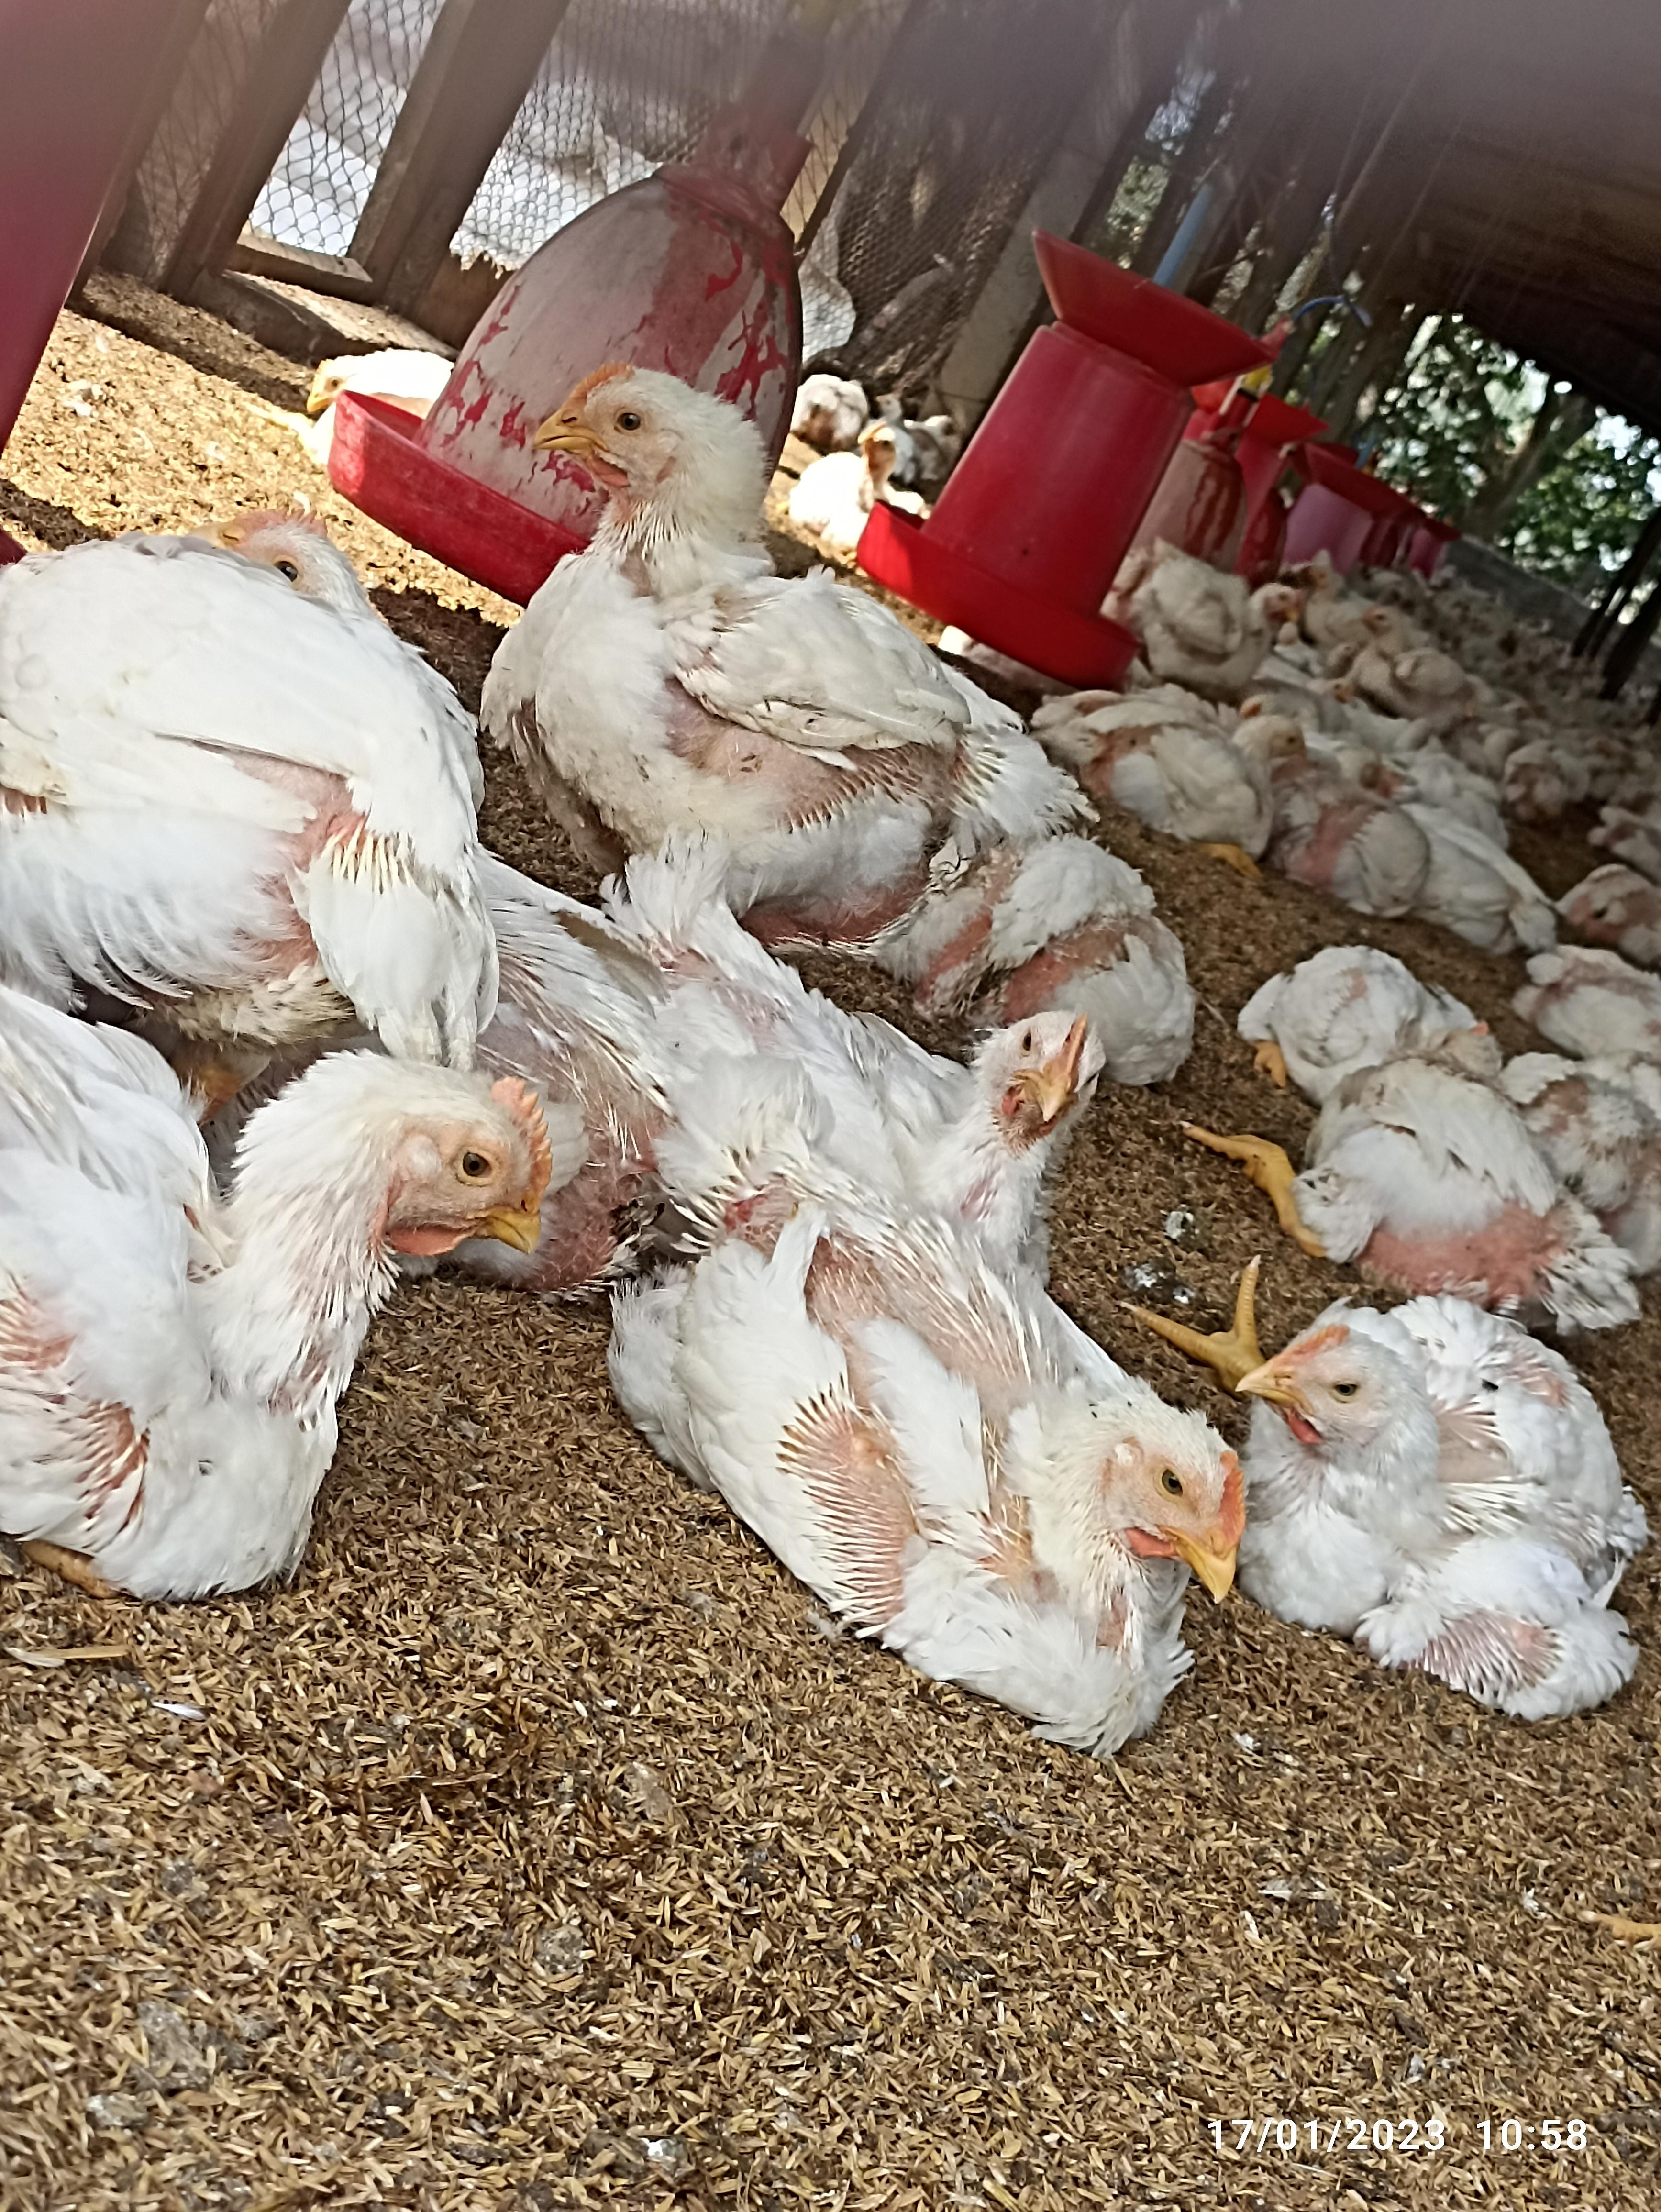Pollos: (612, 1153, 1244, 1750), (0, 1041, 562, 1598), (19, 499, 478, 1012), (518, 358, 926, 904), (1249, 1301, 1645, 1710), (1300, 1055, 1621, 1305), (960, 897, 1202, 1132), (1078, 708, 1263, 867), (1242, 940, 1462, 1062), (1136, 532, 1281, 679), (1281, 773, 1415, 921)
